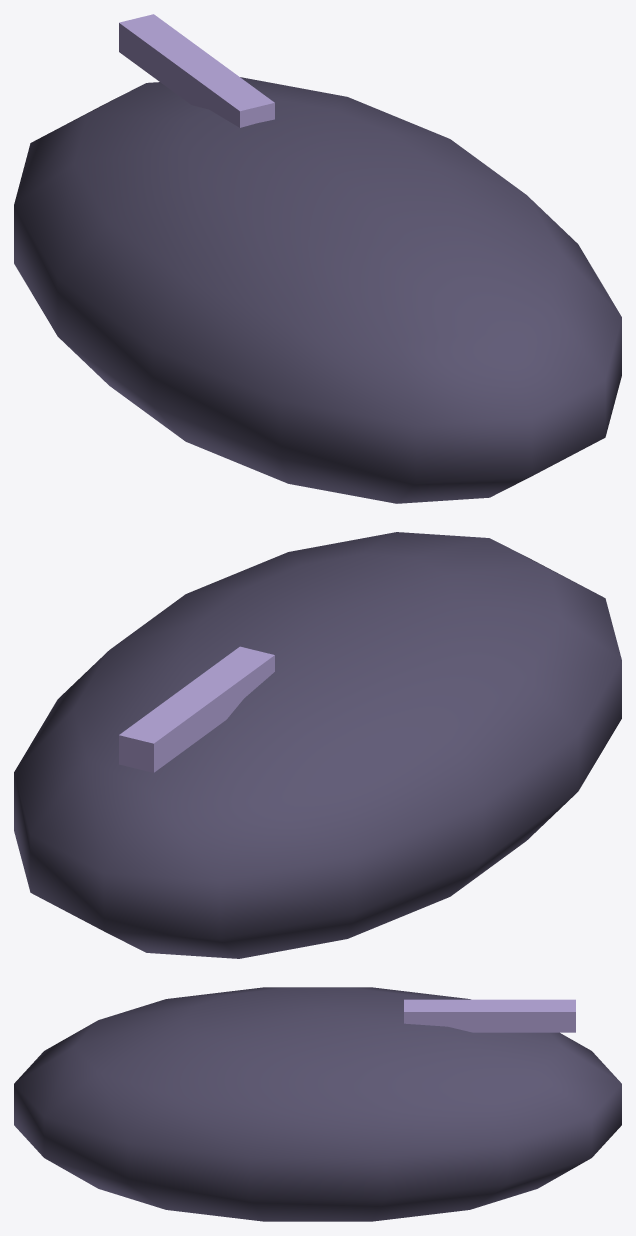
Rendered from junior_mouse.glb.
3 renders of one model, top to bottom at view 1: azimuth 30°, elevation 25°; view 2: azimuth 150°, elevation 25°; view 3: azimuth 270°, elevation 25°, orthographic. The views are drawn at different scales.
Visible parts, largest first — view 1: junior_mouse__SlateLavDark, junior_mouse__ErgoLavender; view 2: junior_mouse__SlateLavDark, junior_mouse__ErgoLavender; view 3: junior_mouse__SlateLavDark, junior_mouse__ErgoLavender.
Boxes of the visible parts, x1=… form: junior_mouse__SlateLavDark: x1=14, y1=77, x2=621, y2=503; junior_mouse__ErgoLavender: x1=119, y1=14, x2=274, y2=127; junior_mouse__SlateLavDark: x1=14, y1=532, x2=621, y2=958; junior_mouse__ErgoLavender: x1=119, y1=646, x2=274, y2=772; junior_mouse__SlateLavDark: x1=14, y1=987, x2=621, y2=1221; junior_mouse__ErgoLavender: x1=404, y1=999, x2=575, y2=1032.
Size of the model in its own units: 0.0608 by 0.0369 by 0.1061.
